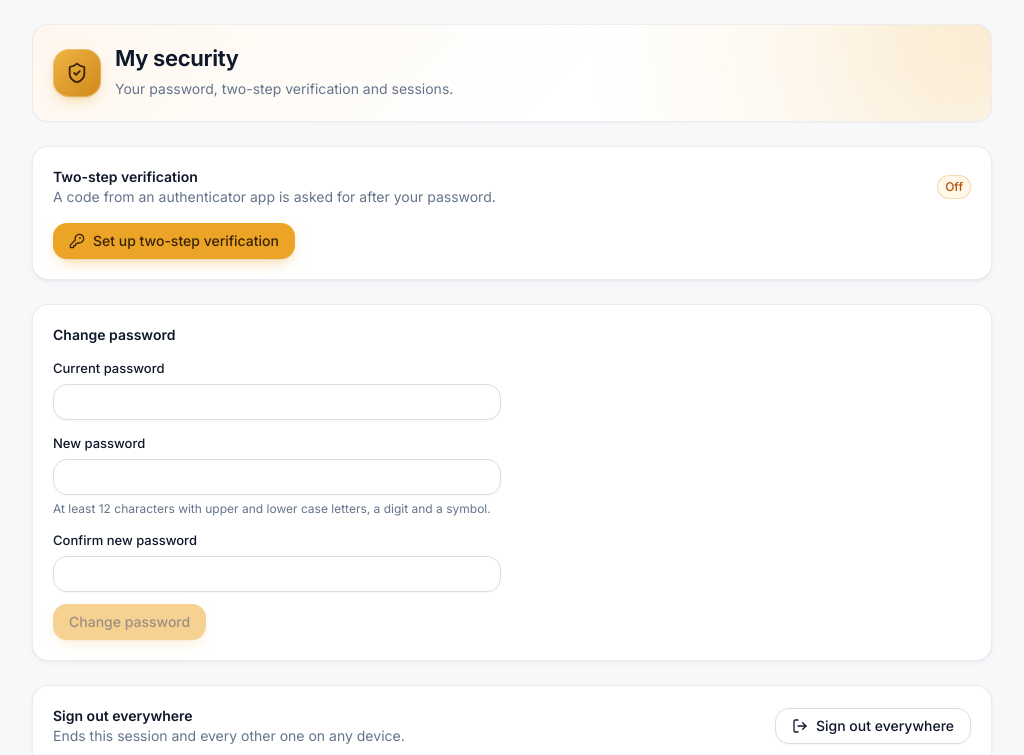
Scenario: My security › shows the reason the server gave when the current password is wrong
In the password field labelled "Current password": (277, 402) [53,384,501,420], type "nope"
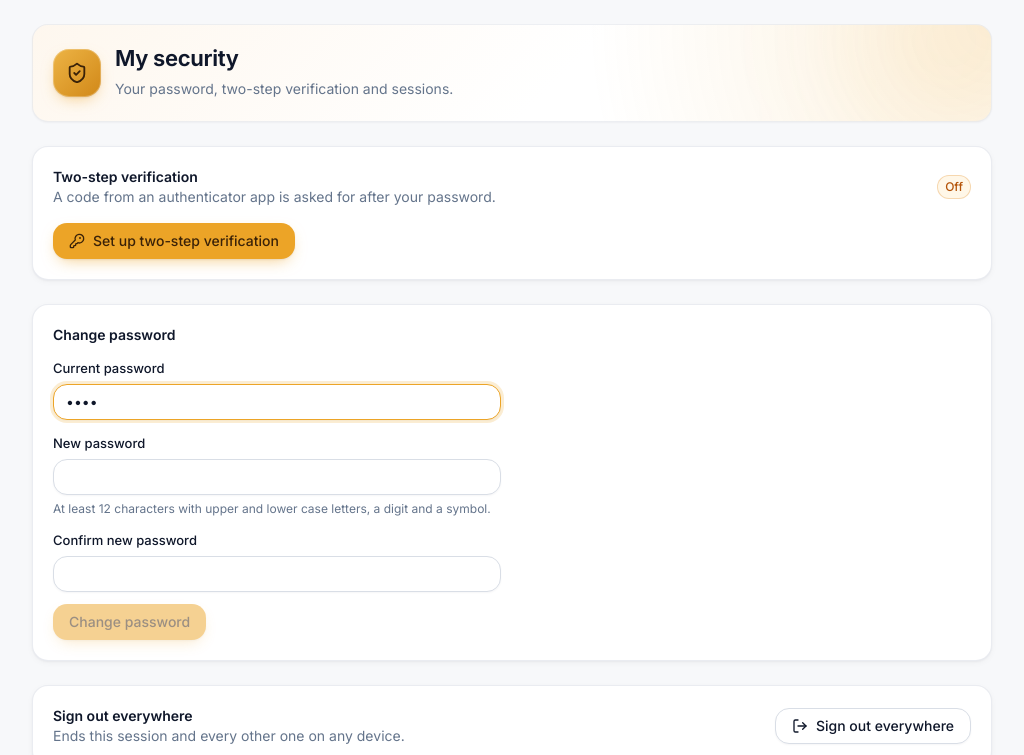
In the password field labelled "New password": (277, 476) [53,458,501,494], type "New-Password1!"
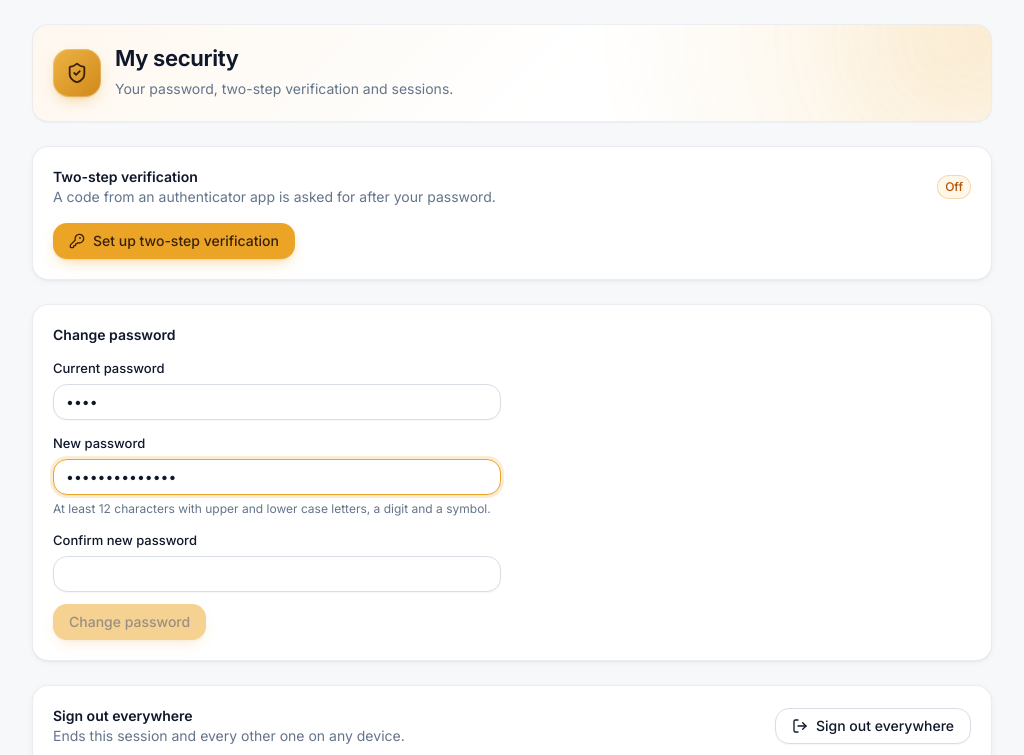
In the password field labelled "Confirm new password": (277, 574) [53,556,501,592], type "New-Password1!"
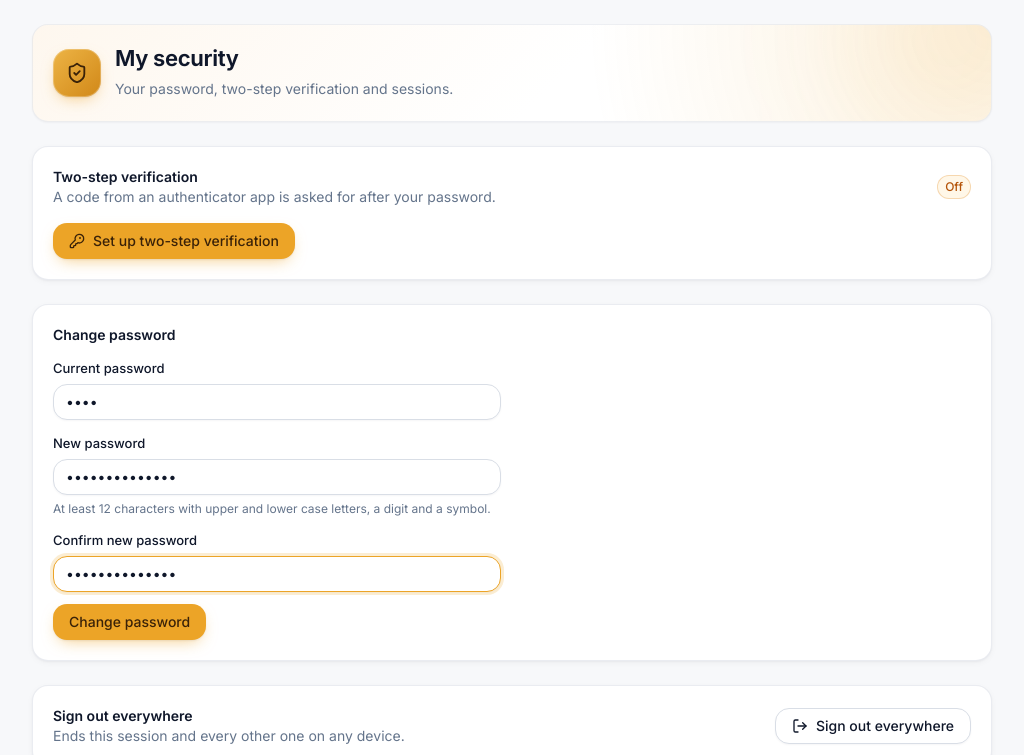
Click the button "Change password": (130, 622) [53,604,206,640]
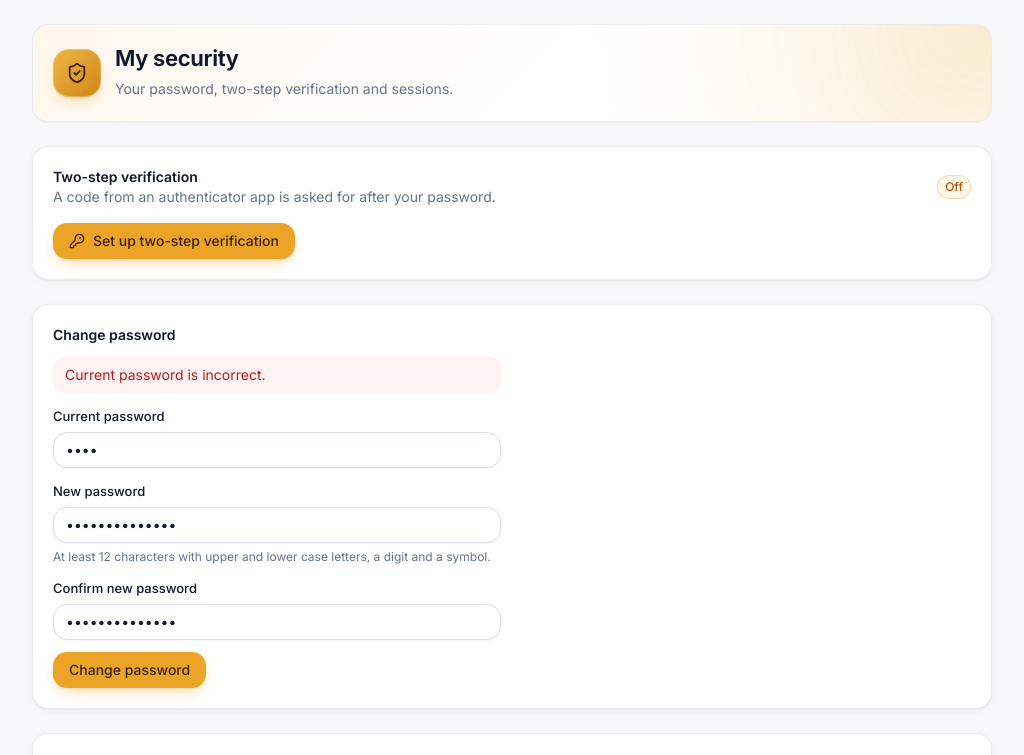
Now the text "Current password is incorrect." is shown, box [53,356,501,392]
